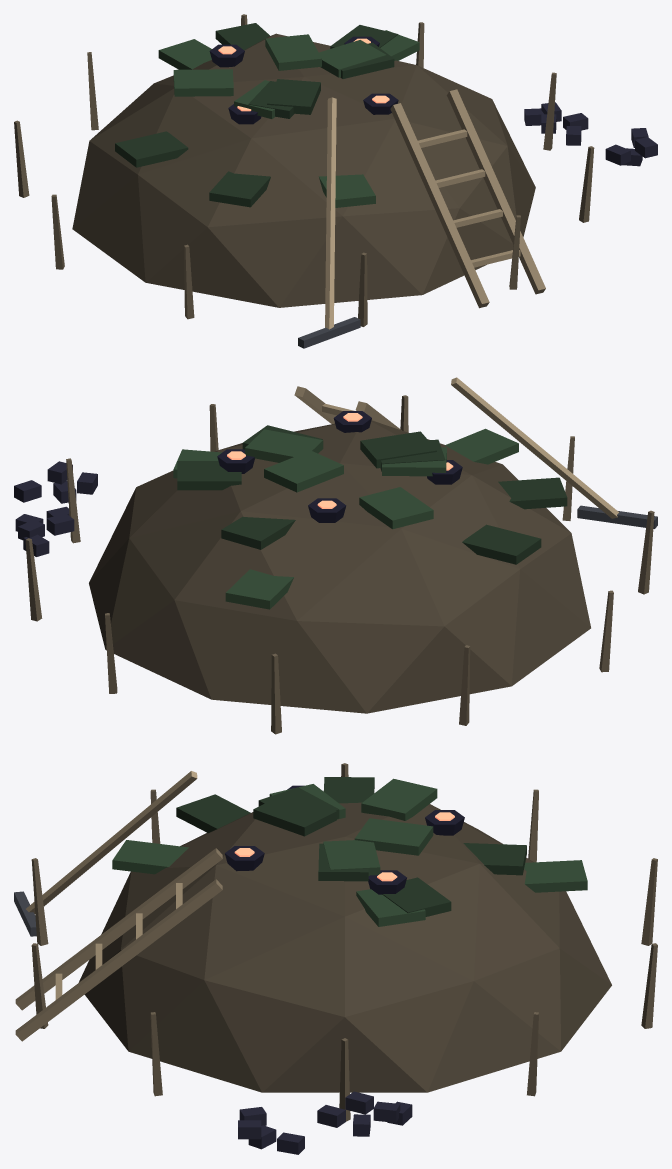
File: charcoal_clamp.glb
3 renders of one model, top to bottom at view 1: azimuth 30°, elevation 25°; view 2: azimuth 150°, elevation 25°; view 3: azimuth 270°, elevation 25°, orthographic. The views are drawn at different scales.
Visible parts, largest first — view 1: driftwood_d62, moss_d45, moss_d60, driftwood_d30, driftwood_d45, ink_l5, driftwood_d10, driftwood_d20, ink, slate_d40; view 2: driftwood_d62, moss_d45, moss_d60, driftwood_d45, ink_l5, ink, driftwood_d10, driftwood_d30, slate_d40; view 3: driftwood_d62, moss_d45, moss_d60, driftwood_d30, driftwood_d45, ink_l5, driftwood_d10, ink, driftwood_d20.
Part boxes in pixels (x1,y1,x2,y2): driftwood_d62: (72,33,535,307); moss_d45: (158,30,419,207); moss_d60: (115,23,398,207); driftwood_d30: (390,89,545,308); driftwood_d45: (14,14,594,326); ink_l5: (524,102,657,166); driftwood_d10: (325,97,336,329); driftwood_d20: (418,129,520,267); ink: (209,36,398,124); slate_d40: (298,317,360,348); driftwood_d62: (89,420,590,713); moss_d45: (173,428,518,609); moss_d60: (177,425,567,564); driftwood_d45: (25,395,654,734); ink_l5: (14,461,97,556); ink: (217,411,462,522); driftwood_d10: (451,377,618,518); driftwood_d30: (294,386,401,430); slate_d40: (577,505,657,528); driftwood_d62: (79,802,611,1092); moss_d45: (112,778,587,926); moss_d60: (176,777,526,916); driftwood_d30: (15,848,222,1041); driftwood_d45: (31,763,657,1121); ink_l5: (238,1091,412,1154); driftwood_d10: (26,771,197,913); ink: (225,785,464,894); driftwood_d20: (55,883,182,999).
Size of the model in its own units: 4.48 by 1.29 by 3.85.
